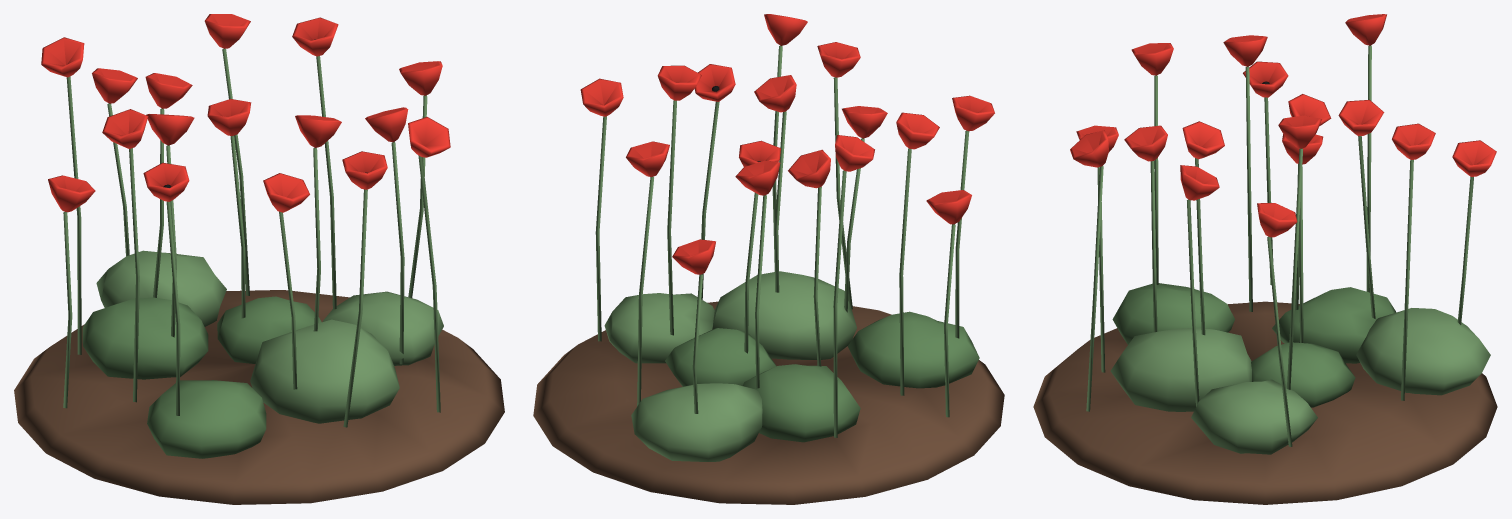
File: poppies.glb
3 renders of one model, left to right at view 1: azimuth 30°, elevation 25°; view 2: azimuth 150°, elevation 25°; view 3: azimuth 270°, elevation 25°, orthographic. The views are drawn at different scales.
Visible parts, largest first — view 1: poppies; view 2: poppies; view 3: poppies.
Part boxes in pixels (x1,y1,x2,y2): poppies: [14, 14, 504, 504]; poppies: [533, 14, 1004, 504]; poppies: [1033, 14, 1497, 504].
Size of the model in its own units: 0.84 by 0.657 by 0.84.
